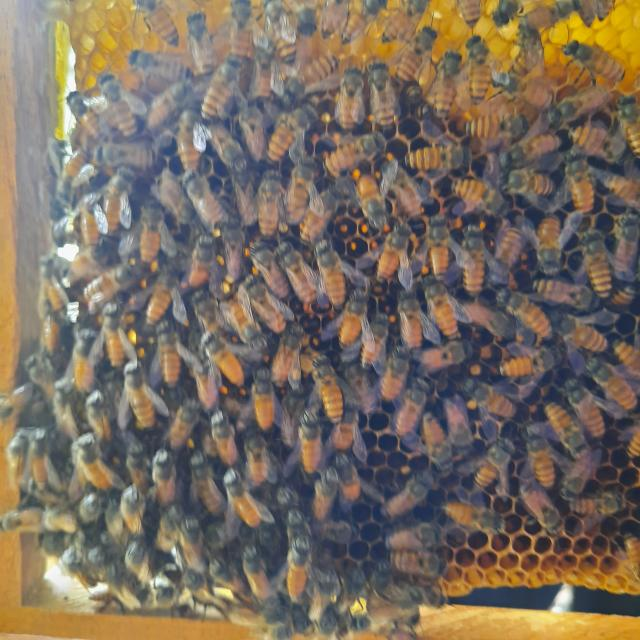honeybee: (261, 95, 322, 165), (488, 285, 557, 344), (126, 270, 191, 330), (544, 400, 604, 463), (562, 36, 629, 92), (560, 379, 624, 437), (366, 219, 415, 293), (568, 116, 628, 176), (308, 354, 351, 431), (463, 367, 520, 425), (288, 403, 331, 479), (240, 284, 298, 340), (117, 363, 166, 429), (474, 438, 516, 515), (548, 79, 609, 131), (200, 332, 248, 398), (282, 542, 331, 606), (264, 323, 308, 394), (326, 286, 370, 356), (390, 21, 436, 87), (427, 52, 468, 125), (96, 72, 140, 140), (322, 129, 390, 173), (450, 297, 518, 341), (285, 46, 340, 100), (577, 230, 620, 298), (259, 0, 302, 66), (585, 359, 640, 410), (385, 374, 428, 439), (215, 293, 260, 355), (488, 216, 529, 284), (96, 166, 138, 232), (367, 346, 417, 401), (423, 208, 460, 282), (524, 272, 589, 314), (447, 174, 509, 218), (139, 80, 197, 127), (494, 341, 562, 381), (91, 134, 164, 171), (276, 239, 318, 303), (294, 175, 334, 242), (81, 265, 141, 309), (205, 122, 251, 179), (313, 239, 351, 308), (23, 428, 61, 497), (385, 468, 433, 522), (247, 365, 285, 433), (495, 70, 556, 112), (130, 48, 193, 88), (383, 163, 425, 223), (609, 93, 640, 173), (190, 454, 230, 516), (417, 284, 461, 340), (379, 0, 426, 52), (184, 178, 223, 240), (153, 323, 190, 388), (382, 520, 452, 554), (100, 302, 136, 368), (208, 404, 245, 468), (74, 431, 112, 493), (133, 1, 182, 49), (337, 0, 387, 47), (511, 0, 582, 33), (467, 37, 500, 108), (334, 66, 368, 134), (138, 198, 170, 270), (224, 470, 262, 530), (230, 100, 266, 162), (365, 598, 418, 640), (185, 227, 218, 294), (29, 352, 62, 419), (357, 310, 390, 377), (250, 240, 288, 298), (367, 61, 398, 132), (252, 42, 284, 110), (520, 480, 556, 540), (240, 432, 280, 486), (464, 113, 531, 145), (186, 570, 228, 621), (394, 290, 429, 351), (102, 487, 143, 539), (384, 551, 452, 582), (65, 93, 107, 143), (496, 130, 556, 165), (531, 215, 566, 275), (326, 398, 364, 453), (355, 173, 391, 230), (224, 1, 258, 61), (396, 146, 466, 175), (460, 217, 486, 294), (203, 53, 234, 117), (186, 354, 224, 406), (529, 428, 560, 491), (615, 206, 640, 282), (178, 517, 213, 569), (247, 544, 278, 602), (508, 164, 555, 202), (563, 160, 596, 214), (185, 12, 215, 71), (85, 389, 119, 441), (164, 398, 198, 450), (70, 322, 95, 392), (443, 392, 473, 450), (564, 494, 622, 524), (36, 254, 64, 316), (334, 453, 366, 507), (564, 449, 604, 492), (410, 341, 473, 368), (421, 418, 453, 471), (219, 228, 248, 286), (290, 4, 320, 60), (6, 434, 34, 494), (158, 176, 190, 228), (255, 164, 278, 236), (62, 247, 108, 283), (518, 21, 546, 80), (231, 172, 259, 230), (276, 167, 303, 227), (601, 168, 640, 209), (160, 504, 190, 556), (179, 105, 202, 172), (3, 499, 43, 537), (150, 448, 180, 498), (76, 193, 105, 244), (470, 404, 511, 440), (314, 466, 340, 522), (126, 440, 153, 492), (337, 565, 365, 612), (212, 561, 247, 596), (453, 0, 489, 33), (186, 289, 213, 333), (62, 146, 94, 182), (316, 0, 343, 41), (484, 0, 522, 29), (608, 341, 640, 375), (61, 543, 86, 586), (42, 316, 68, 354), (121, 542, 148, 578), (328, 613, 370, 635), (570, 325, 606, 350), (75, 494, 98, 530), (87, 544, 115, 572), (623, 419, 640, 462), (282, 511, 308, 536), (574, 0, 594, 29), (274, 486, 298, 510), (612, 282, 636, 305), (316, 610, 336, 636), (594, 0, 614, 22)
